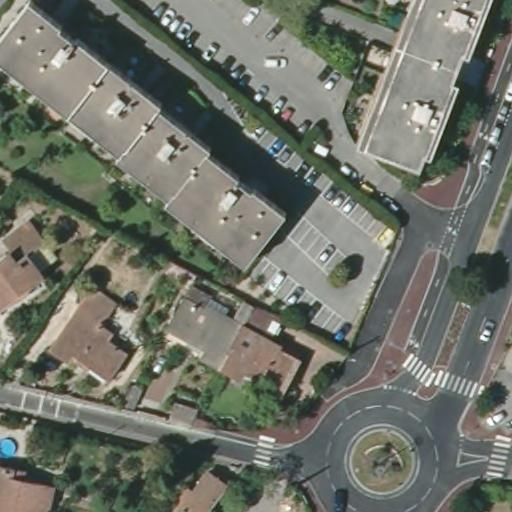pool: (0, 434, 22, 457)
